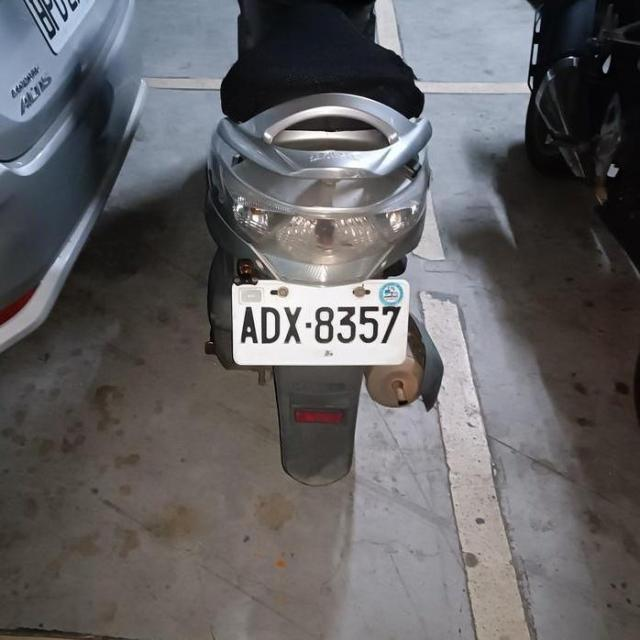W: (229, 272, 412, 369)
